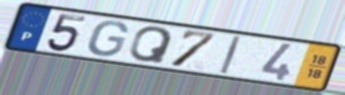4: (258, 41, 293, 83)
5: (45, 12, 89, 52)
7: (171, 28, 218, 69)
G: (85, 20, 131, 58)
I: (218, 34, 243, 76)
Q: (127, 25, 176, 65)
